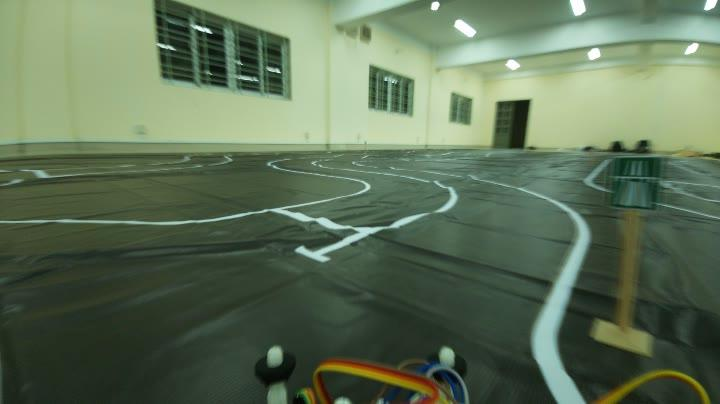highway_entry: (600, 151, 664, 216)
